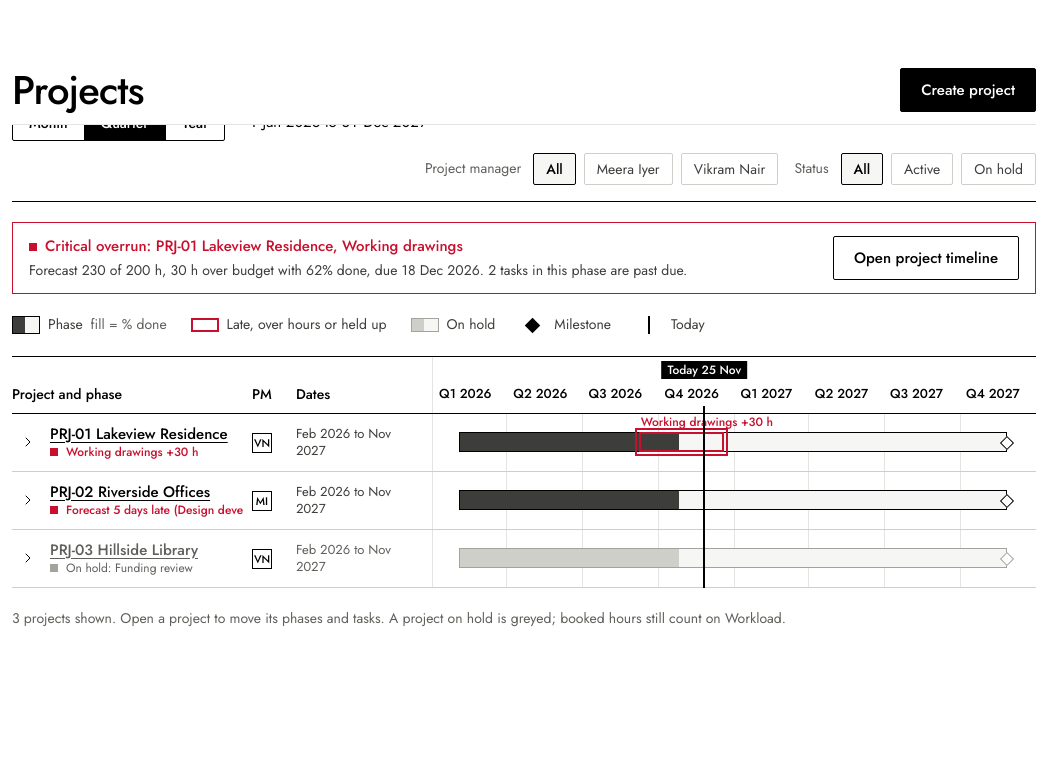
Test: studio timeline in live mode › shows every project with its state, the on-hold one greyed, the critical overrun, and expands to phases
Expected: the text "Working drawings +30 h" is shown, [50, 443, 198, 461]
Expected: the text "Forecast 5 days late (Design development)" is shown, [50, 502, 244, 518]
Click the button named "Expand PRJ-02 Riverside Offices" at (28, 500), box [12, 484, 44, 516]
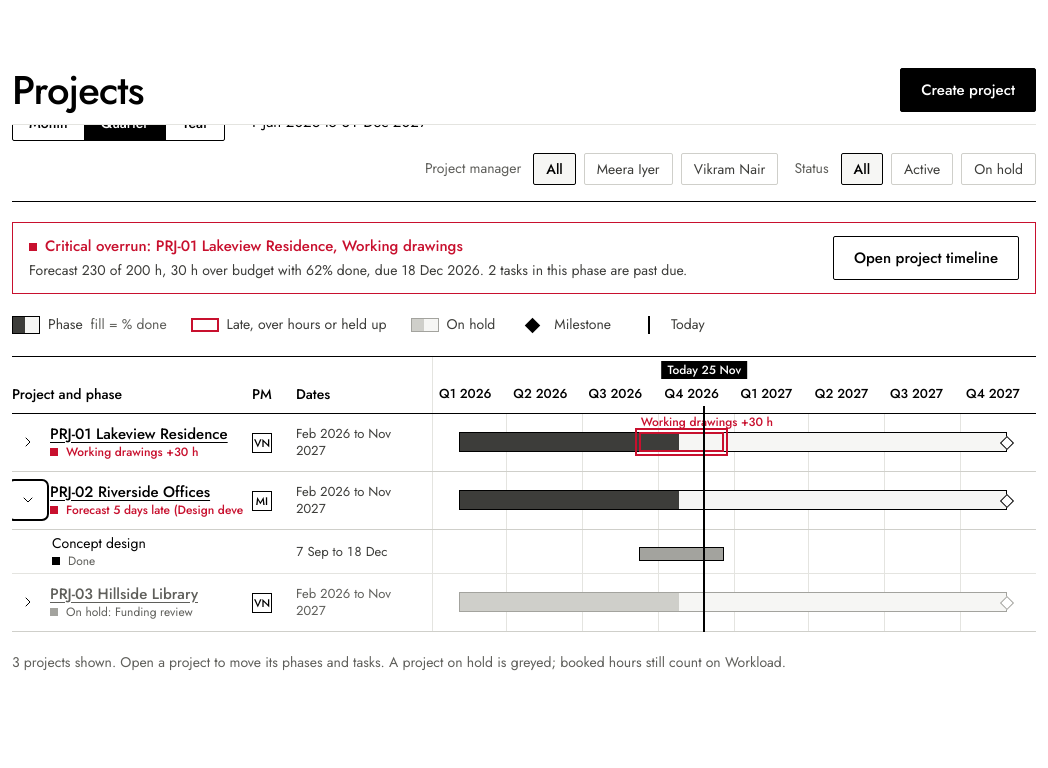
Expected: the 1st picture named "Practical completion" is shown, [1000, 436, 1014, 450]
Now the text "Concept design" is shown, box [52, 534, 146, 552]
